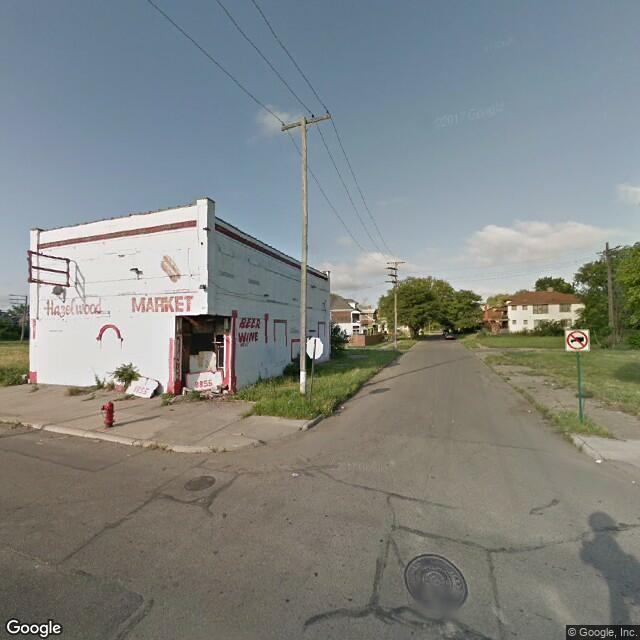litter: (595, 457, 601, 465), (632, 479, 636, 485), (340, 405, 343, 410)
